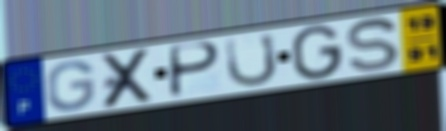G: (291, 23, 344, 82), (45, 59, 97, 113)
P: (167, 41, 224, 100)
S: (344, 16, 402, 73)
U: (224, 30, 280, 89)
X: (100, 46, 157, 111)
